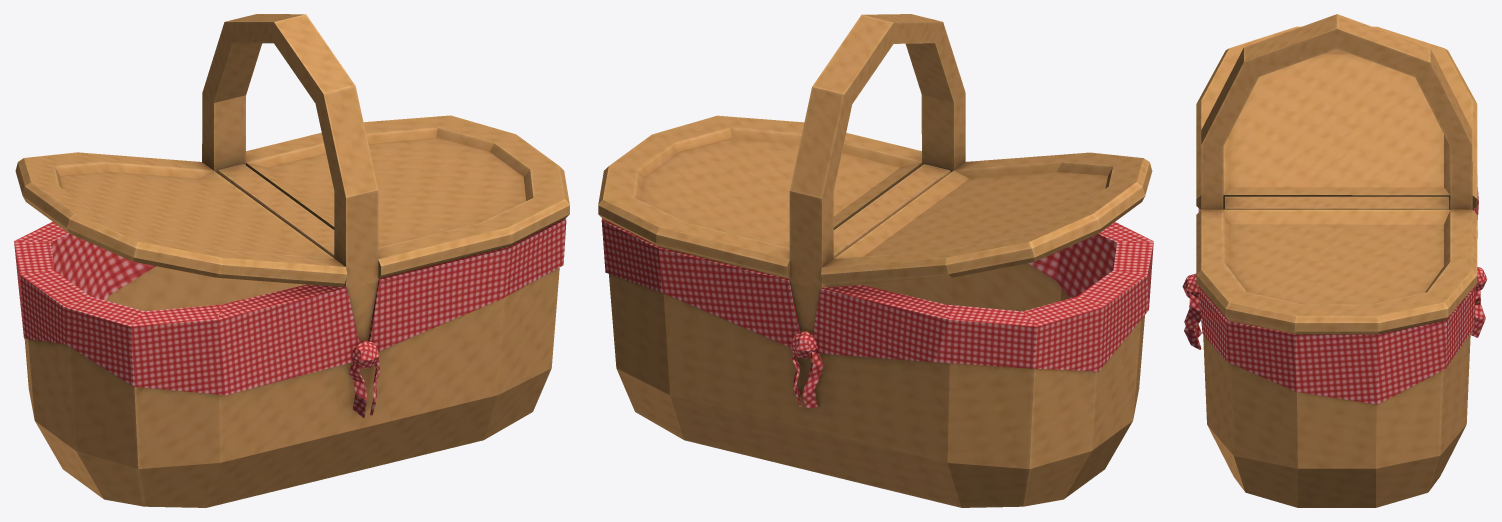
Rendered from bread_basket.glb.
The picture shows the model from 3 angles, left to right: view 1: azimuth 30°, elevation 25°; view 2: azimuth 150°, elevation 25°; view 3: azimuth 270°, elevation 25°; orthographic projection. The views are drawn at different scales.
Visible parts, largest first — view 1: PicnicBasket_mesh; view 2: PicnicBasket_mesh; view 3: PicnicBasket_mesh.
Boxes of the visible parts, x1,y1,x2,y2 form: PicnicBasket_mesh: [14, 14, 569, 507]; PicnicBasket_mesh: [598, 14, 1153, 507]; PicnicBasket_mesh: [1182, 14, 1487, 507].
Bounding box in the file's own units: 5.81 × 4.88 × 3.26.
1 material, 1 textured.
